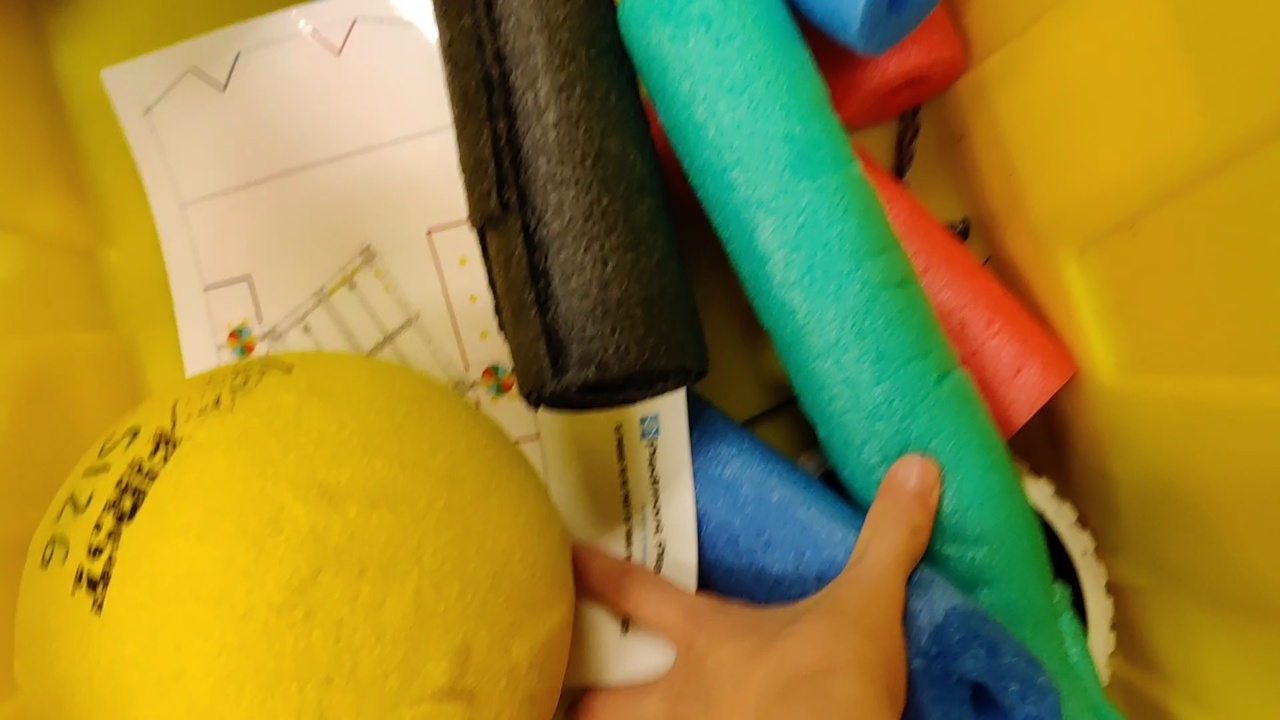Ball: (14, 349, 582, 720)
